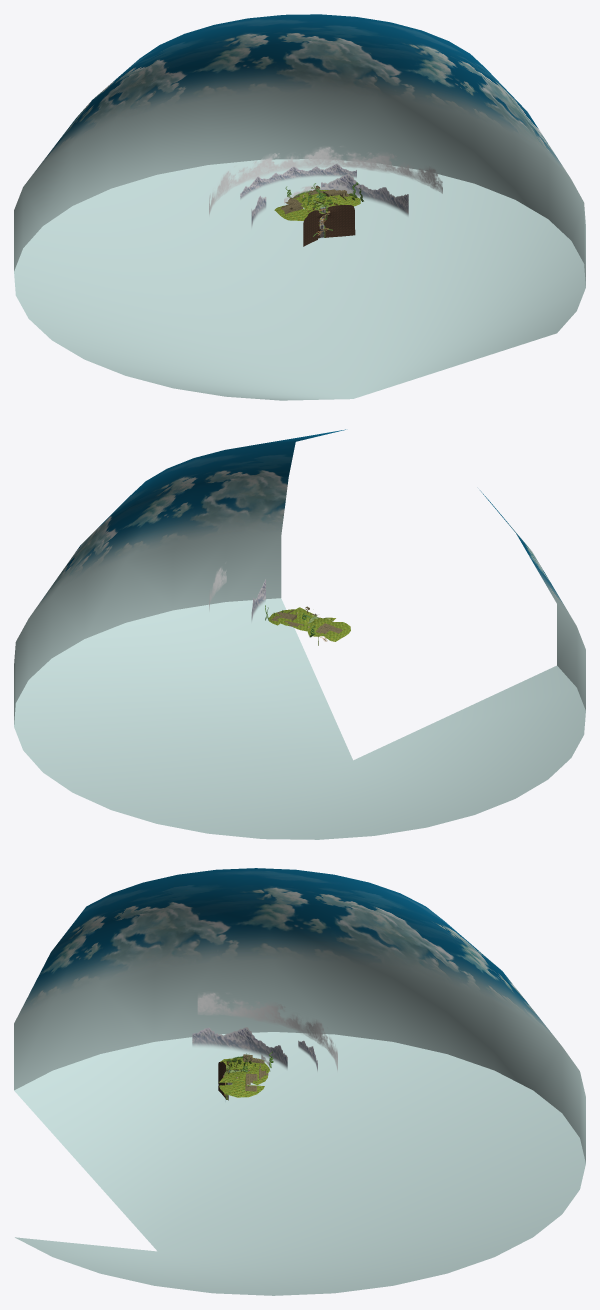
The model's file is forest_falls (1).glb.
The picture shows the model from 3 angles, top to bottom: view 1: azimuth 30°, elevation 25°; view 2: azimuth 150°, elevation 25°; view 3: azimuth 270°, elevation 25°; orthographic projection. The views are drawn at different scales.
Parts seen in each view (by area): view 1: FrontSide_1, FrontSide_13, FrontSide_24, FrontSide_18, FrontSide_35; view 2: FrontSide_1, FrontSide_35; view 3: FrontSide_1, FrontSide_13, FrontSide_24, FrontSide_35.
Boxes of the visible parts, x1,y1,x2,y2 form: FrontSide_1: [14, 14, 585, 400]; FrontSide_13: [209, 146, 442, 215]; FrontSide_24: [240, 163, 408, 226]; FrontSide_18: [303, 205, 355, 246]; FrontSide_35: [274, 190, 360, 220]; FrontSide_1: [14, 429, 585, 839]; FrontSide_35: [268, 607, 350, 641]; FrontSide_1: [14, 868, 585, 1295]; FrontSide_13: [197, 992, 337, 1070]; FrontSide_24: [192, 1027, 317, 1071]; FrontSide_35: [219, 1058, 269, 1097].
Size of what is drawn, in the model's own units: 17997 by 11583 by 16480.
41 materials, 40 textured.
